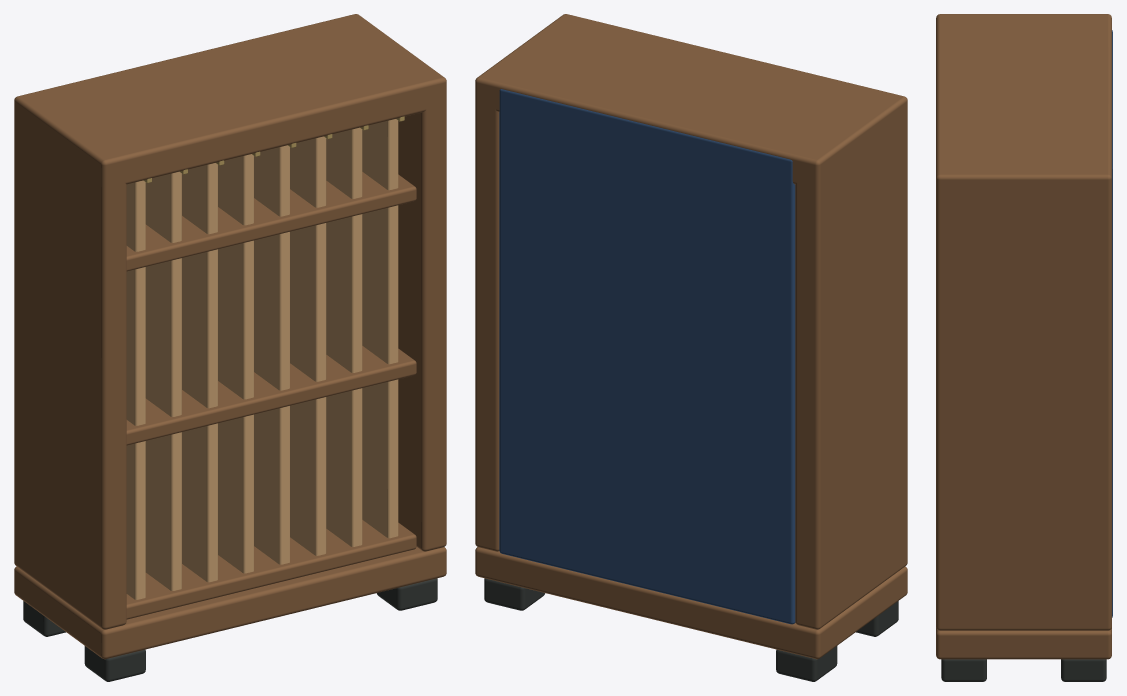
The model's file is fantasy-cartographers-map-printing-guild-plate-storage-8add364a__32247.glb.
3 renders of one model, left to right at view 1: azimuth 30°, elevation 25°; view 2: azimuth 150°, elevation 25°; view 3: azimuth 270°, elevation 25°, orthographic. The views are drawn at different scales.
Visible parts, largest first — view 1: plate-storage-cabinet; view 2: plate-storage-cabinet; view 3: plate-storage-cabinet.
Part boxes in pixels (bbox=[...]): plate-storage-cabinet: bbox=[14, 14, 446, 681]; plate-storage-cabinet: bbox=[475, 14, 907, 681]; plate-storage-cabinet: bbox=[936, 14, 1112, 681].
Bounding box in the file's own units: 1.1 × 1.6 × 0.5025.
